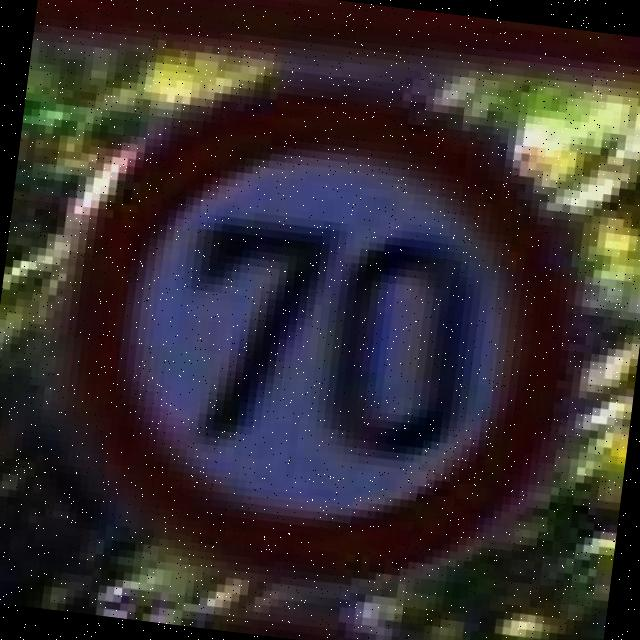Ograniczenie predkosci do 70: (32, 32, 615, 618)
